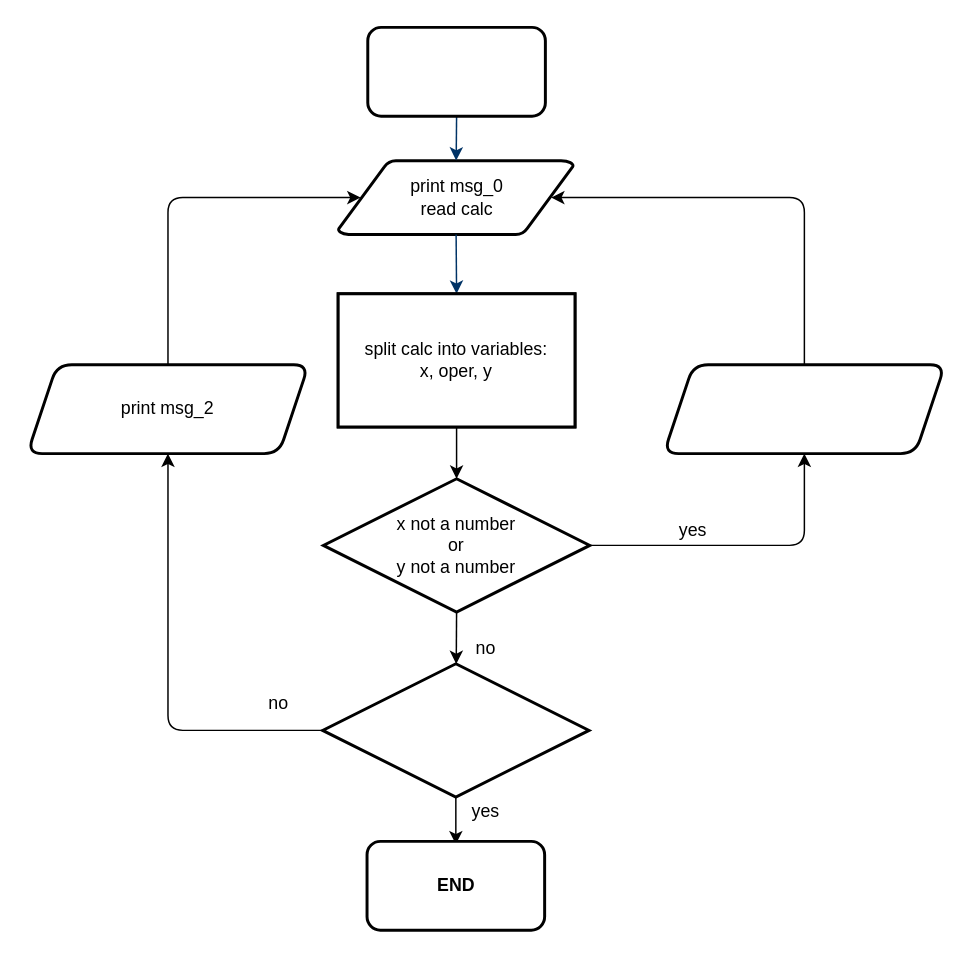
The diagram is 971 pixels wide and 956 high, and some of its shapes have lost their labels. Here are the shapes that lost their labels. From the top down, the centre of each, then its label:
(x=456, y=71): START
(x=804, y=408): print msg_1
(x=455, y=730): oper = "+" or oper = "-" or oper = "*" or oper = "/"
